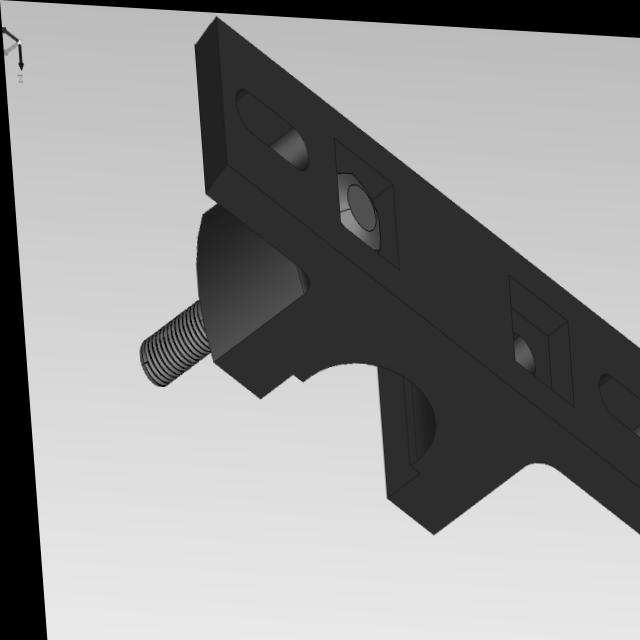screw: (113, 152, 390, 403)
